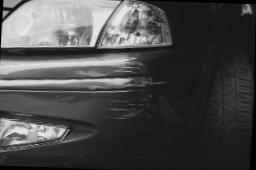Bumper: (36, 57, 169, 123)
